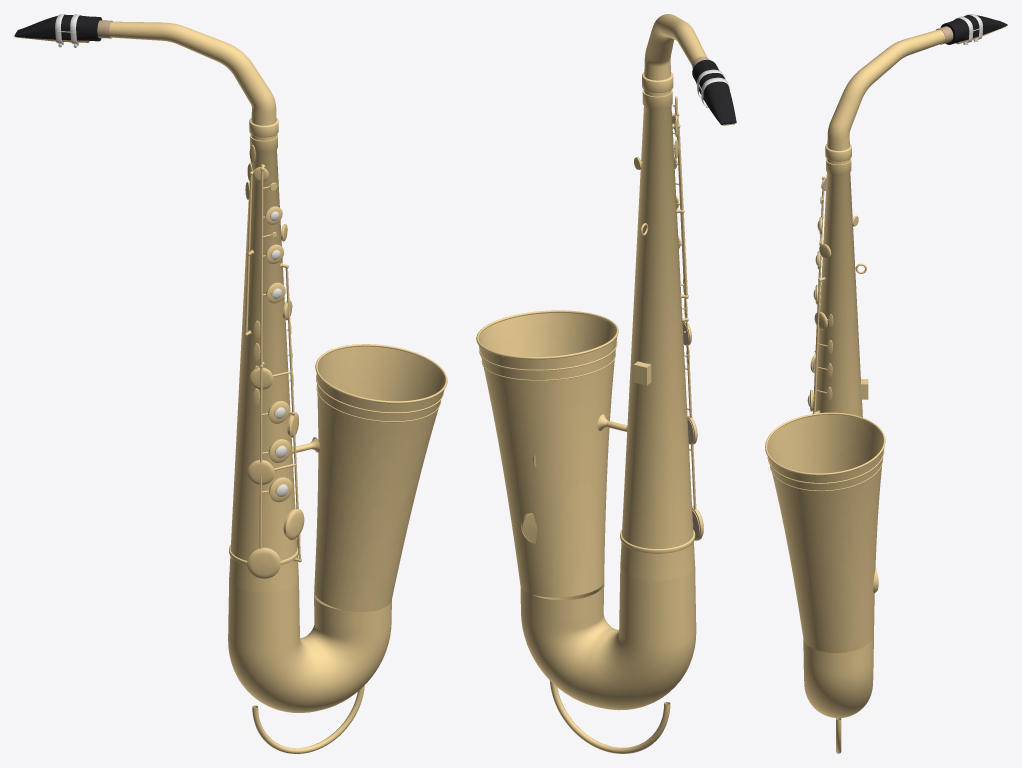
File: tenorSax.glb
The picture shows the model from 3 angles, left to right: view 1: azimuth 30°, elevation 25°; view 2: azimuth 150°, elevation 25°; view 3: azimuth 270°, elevation 25°; orthographic projection. The views are drawn at different scales.
Visible parts, largest first — view 1: Body; view 2: Body; view 3: Body.
Boxes of the visible parts, <box> form: Body: <box>14,14,447,753</box>; Body: <box>476,14,736,753</box>; Body: <box>765,14,1007,753</box>.
Bounding box in the file's own units: 0.4589 × 0.9707 × 0.3233.
